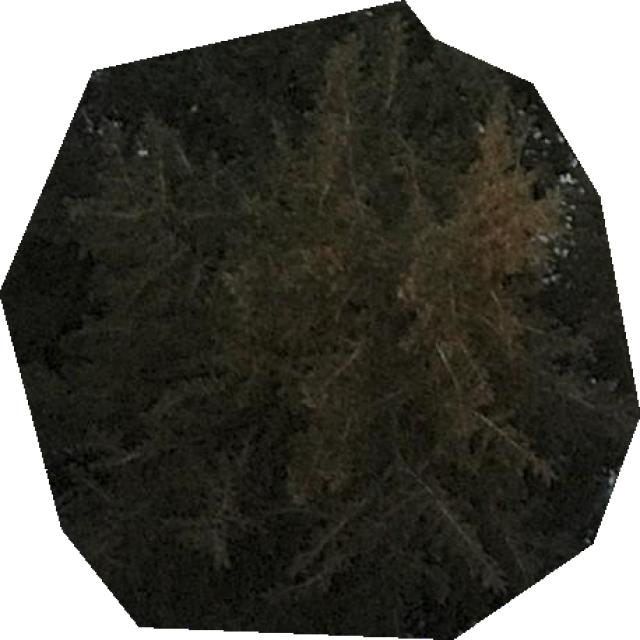spruce: (0, 0, 639, 639)
